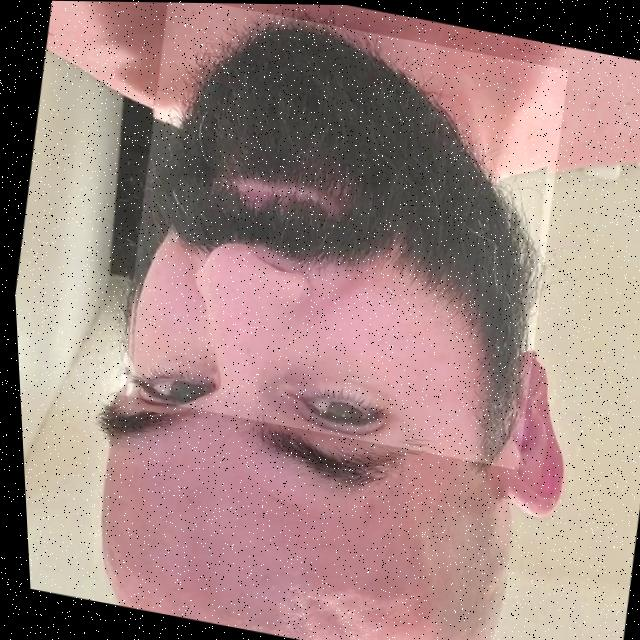beard: (137, 18, 539, 462)
